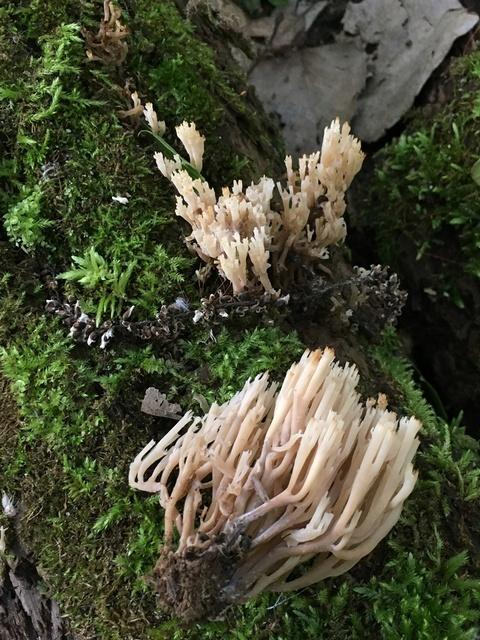Edible Mushroom: (127, 344, 423, 624), (150, 113, 366, 300)
